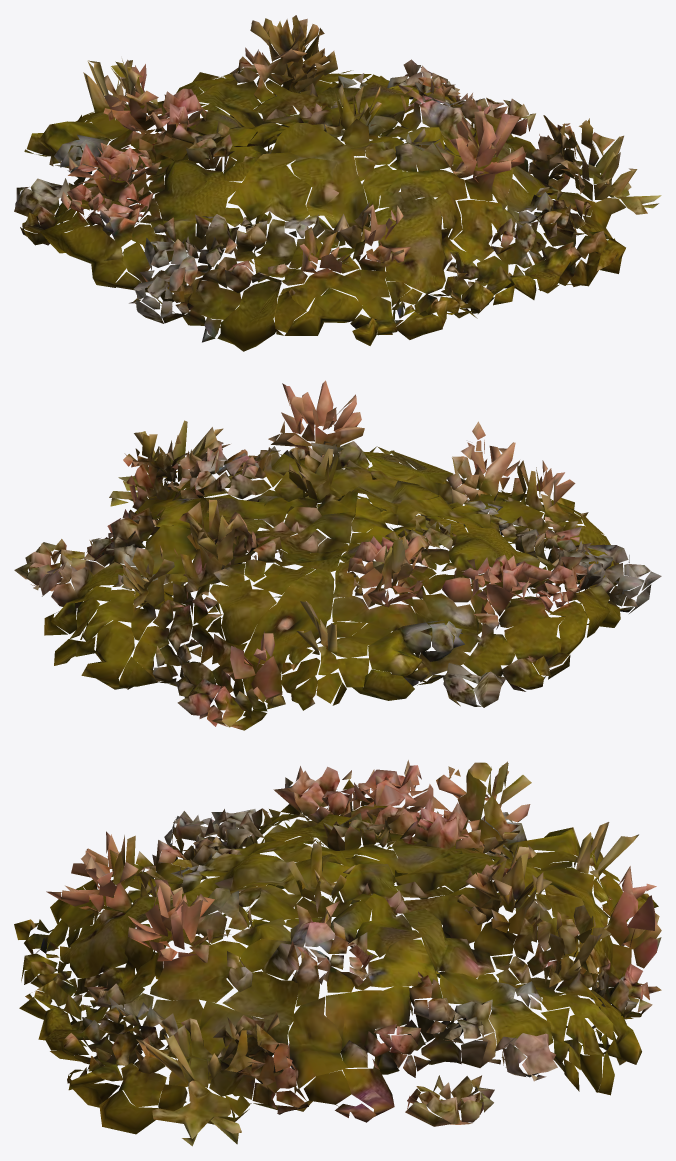
File: reefmass_d.glb
The picture shows the model from 3 angles, top to bottom: view 1: azimuth 30°, elevation 25°; view 2: azimuth 150°, elevation 25°; view 3: azimuth 270°, elevation 25°; orthographic projection. The views are drawn at different scales.
Visible parts, largest first — view 1: tripo_node_49963c1c-b5fb-4e26-ae1b-8669599cd1a2; view 2: tripo_node_49963c1c-b5fb-4e26-ae1b-8669599cd1a2; view 3: tripo_node_49963c1c-b5fb-4e26-ae1b-8669599cd1a2.
Part boxes in pixels (x1,y1,x2,y2): tripo_node_49963c1c-b5fb-4e26-ae1b-8669599cd1a2: (14, 15, 661, 351); tripo_node_49963c1c-b5fb-4e26-ae1b-8669599cd1a2: (14, 380, 661, 730); tripo_node_49963c1c-b5fb-4e26-ae1b-8669599cd1a2: (14, 760, 661, 1146).
Bounding box in the file's own units: 1 × 0.3015 × 0.919.
Materials: 1 (1 with a texture image).
